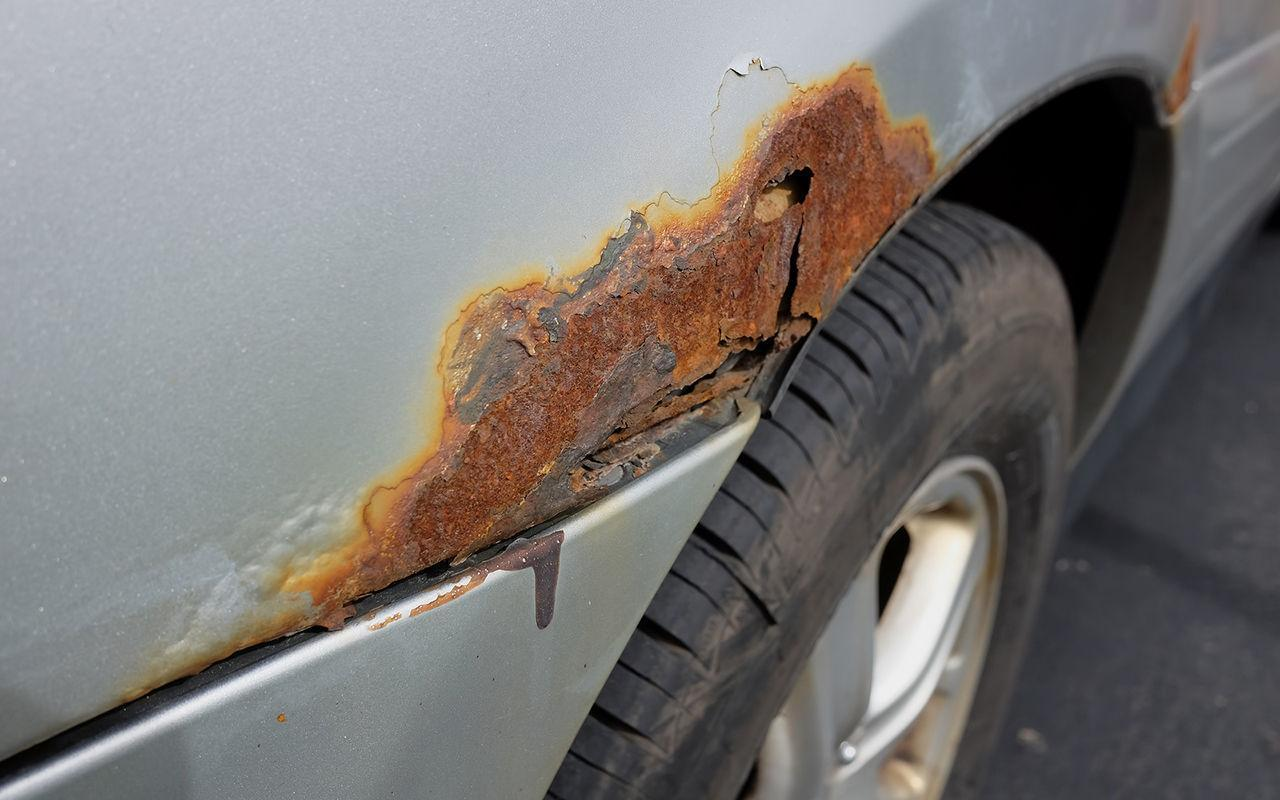corrosion: (239, 66, 936, 645)
